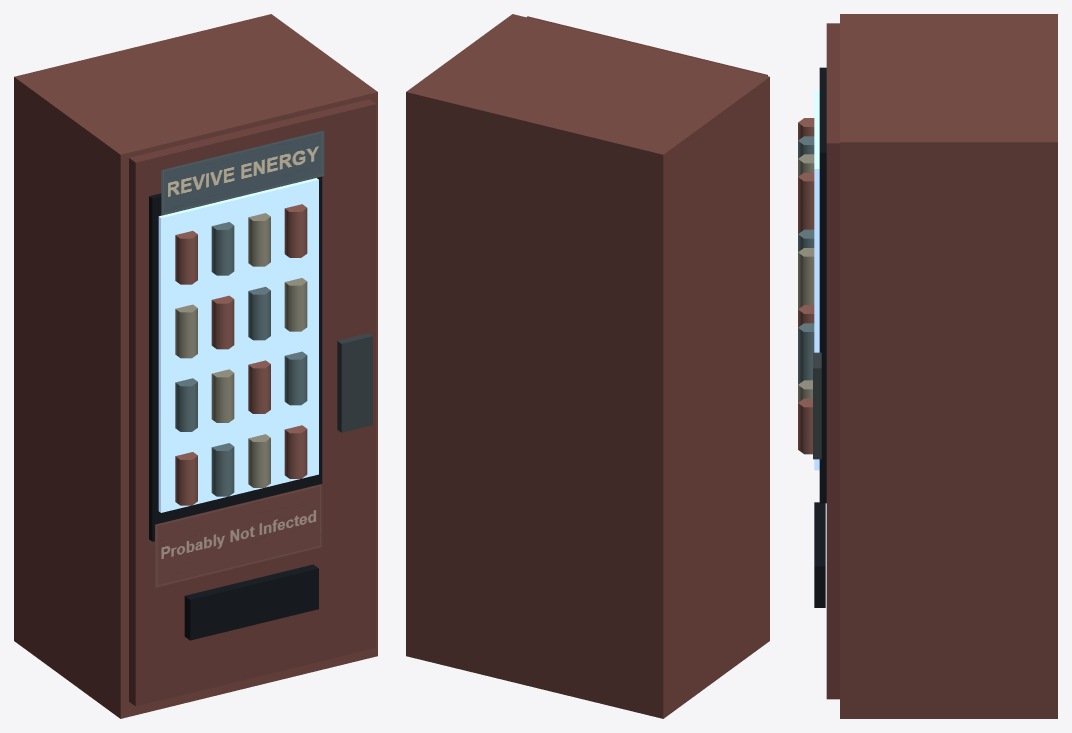
The model's file is la-vending.glb.
3 views of the same model, side by side, from view 1: azimuth 30°, elevation 25°; view 2: azimuth 150°, elevation 25°; view 3: azimuth 270°, elevation 25° (orthographic). The views are drawn at different scales.
Parts seen in each view (by area): view 1: la-vending; view 2: la-vending; view 3: la-vending.
Part boxes in pixels (bbox=[...]): la-vending: bbox=[14, 14, 377, 718]; la-vending: bbox=[406, 14, 769, 718]; la-vending: bbox=[798, 14, 1057, 718].
Bounding box in the file's own units: 1.06 × 2.22 × 0.907.
4 materials, 2 textured.
